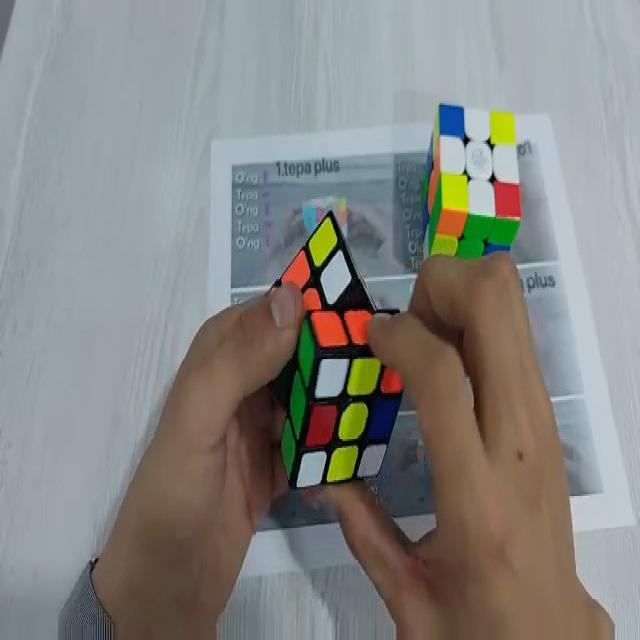Rub: (242, 210, 402, 490), (424, 100, 524, 273)
